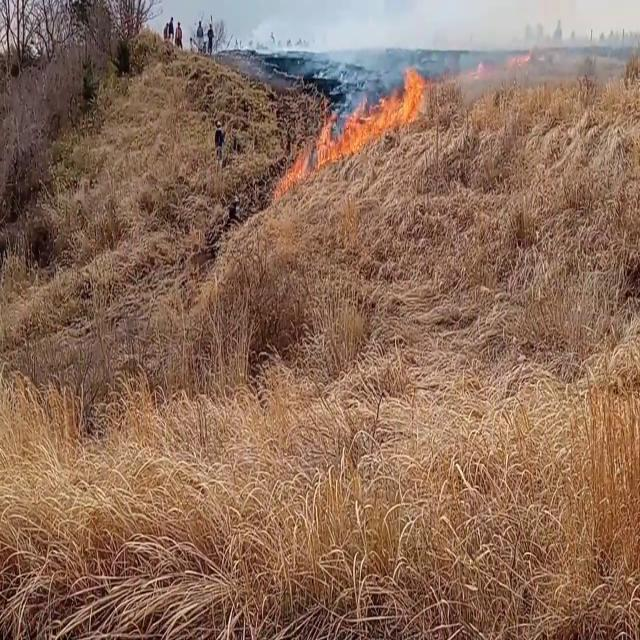Fire: (326, 57, 432, 159)
